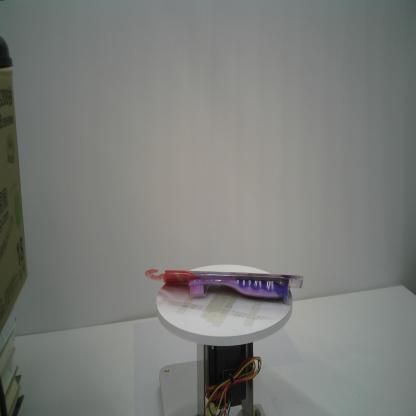Personal Hygiene: (145, 267, 304, 306)
